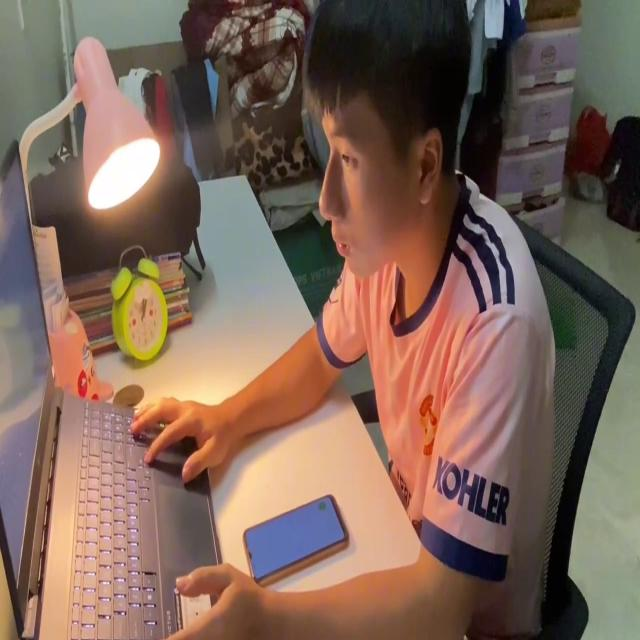laptop: (0, 135, 229, 640)
phone: (239, 490, 355, 588)
student: (132, 0, 560, 640)
